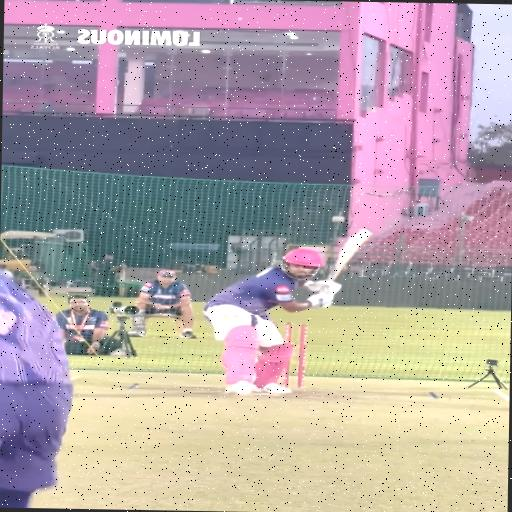Cricket bat: (330, 229, 372, 280)
